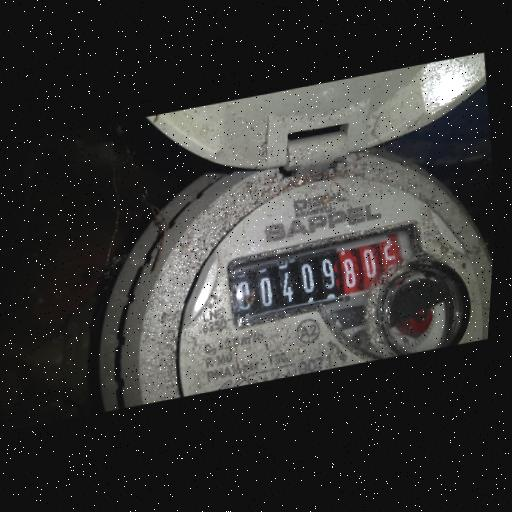0: (355, 242, 385, 291), (294, 256, 322, 305), (230, 272, 259, 319), (253, 266, 281, 314)
2: (374, 232, 406, 282)
4: (274, 261, 302, 309)
8: (336, 247, 364, 296)
9: (315, 251, 342, 300)
border_water_meter_number: (226, 225, 426, 327)
